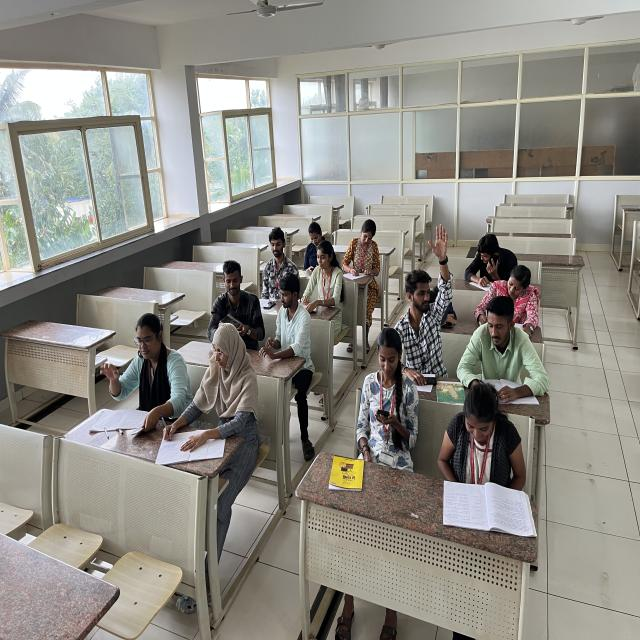Hand Rising: (393, 207, 458, 351)
Reading: (437, 386, 528, 516), (118, 293, 171, 426)
Using Phone: (356, 322, 421, 456), (468, 221, 510, 279)
Writing: (160, 304, 250, 453), (345, 219, 392, 291)
